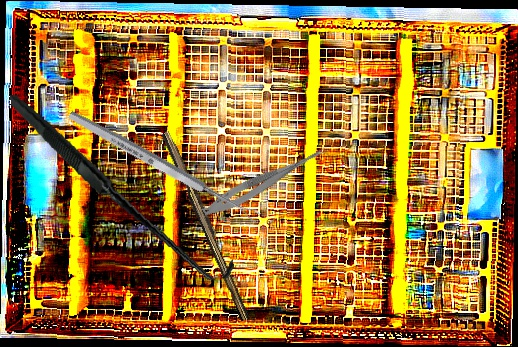Hook Surgical: (9, 67, 236, 305)
Micro Scissor: (199, 137, 333, 223)
Scalpel Handle: (158, 129, 256, 322)
Surgical Spoon: (66, 108, 262, 225)
